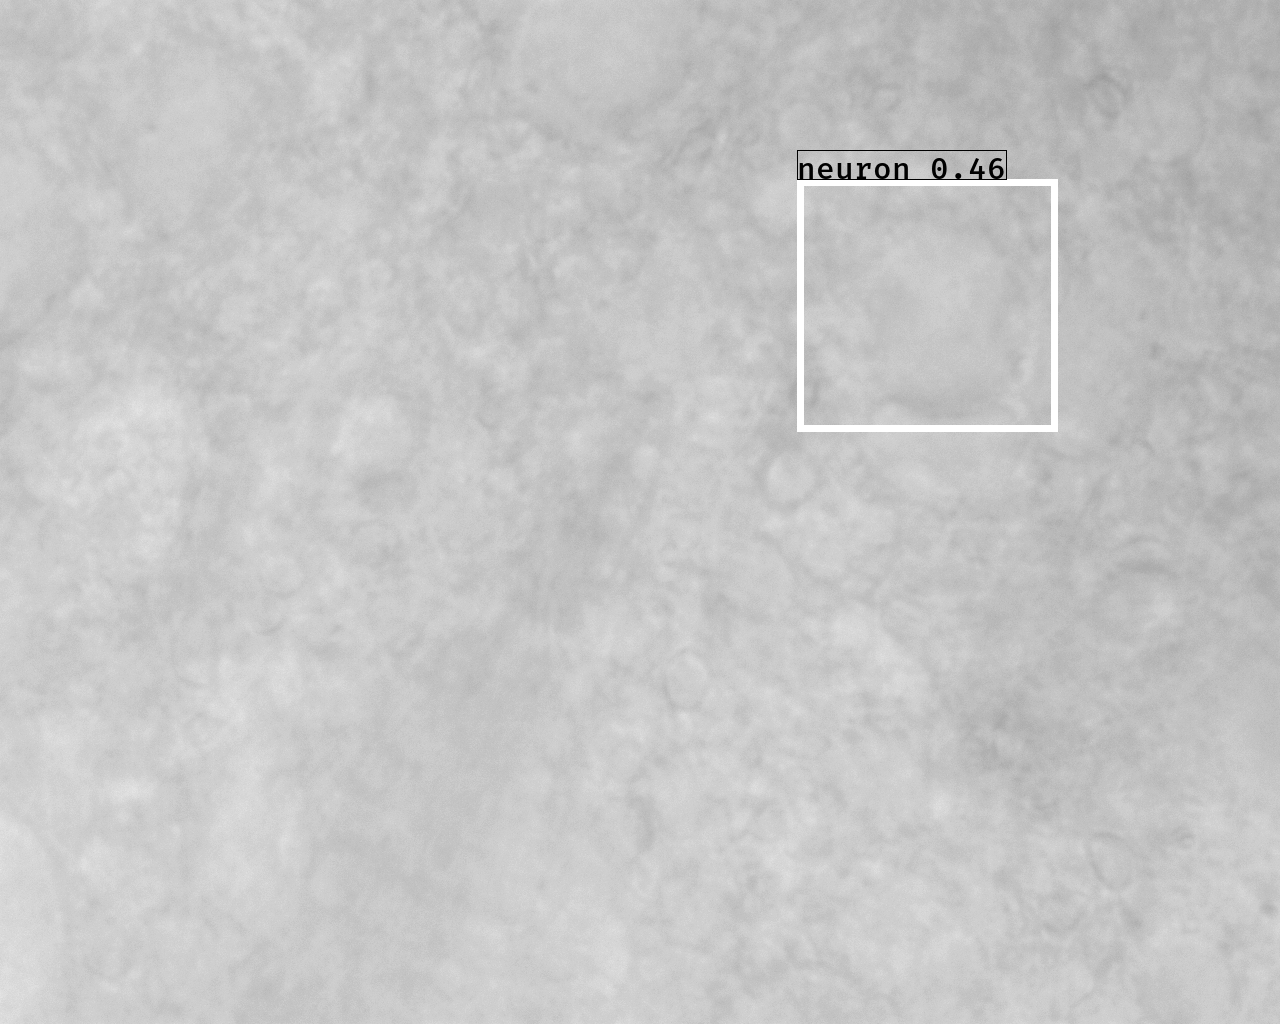neuron: (834, 222, 1055, 425), (466, 1, 718, 155), (309, 381, 437, 492)
